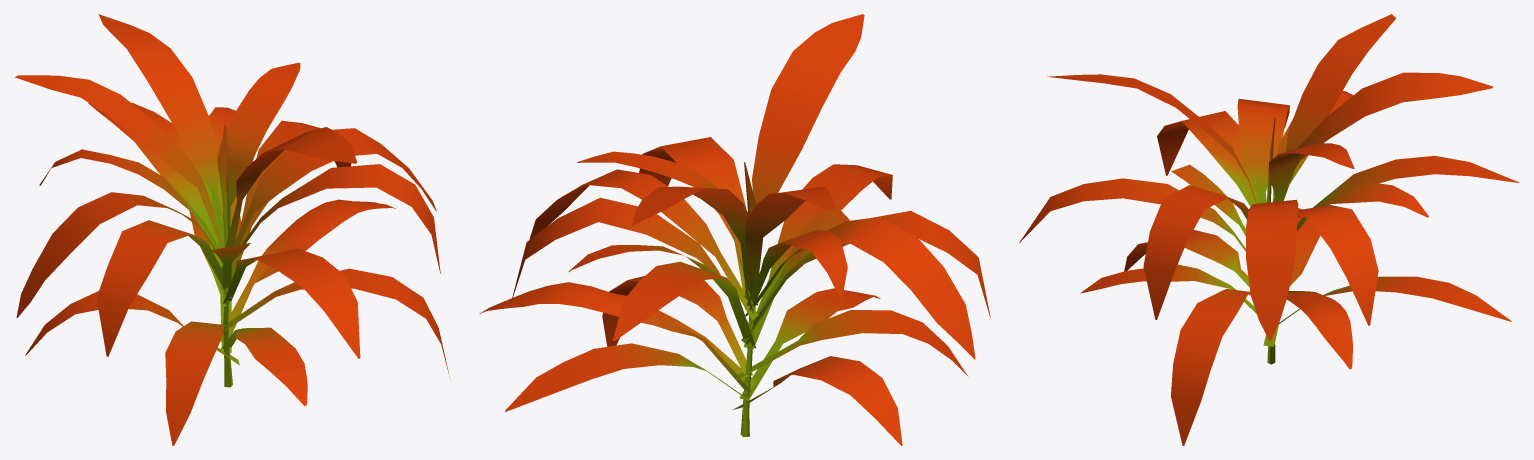
Rendered from Pink Cordyline_LOD2_Var7_sfhhN.fbx.
The picture shows the model from 3 angles, left to right: view 1: azimuth 30°, elevation 25°; view 2: azimuth 150°, elevation 25°; view 3: azimuth 270°, elevation 25°; orthographic projection. The views are drawn at different scales.
Visible parts, largest first — view 1: _76c5_Var7_LOD2; view 2: _76c5_Var7_LOD2; view 3: _76c5_Var7_LOD2.
Boxes of the visible parts, x1,y1,x2,y2 form: _76c5_Var7_LOD2: (15,14,449,445); _76c5_Var7_LOD2: (479,14,990,445); _76c5_Var7_LOD2: (1019,14,1519,445).
Size of the model in its own units: 64.36 by 45.51 by 70.02.
